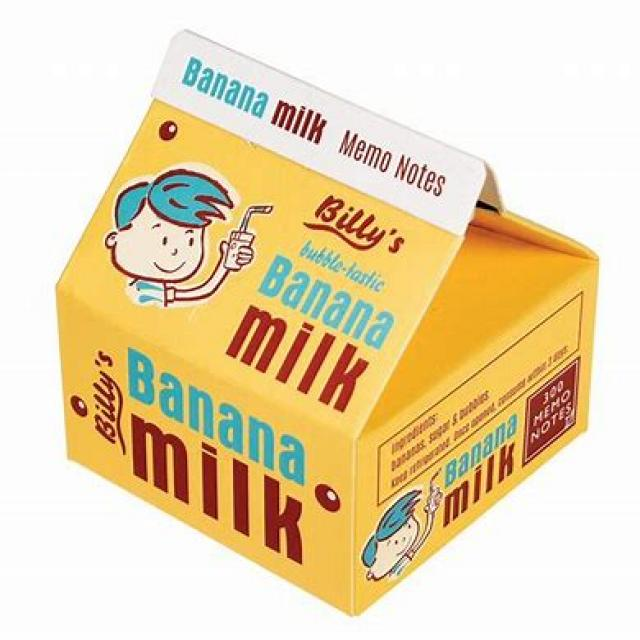non_white_jug: (50, 15, 605, 621)
